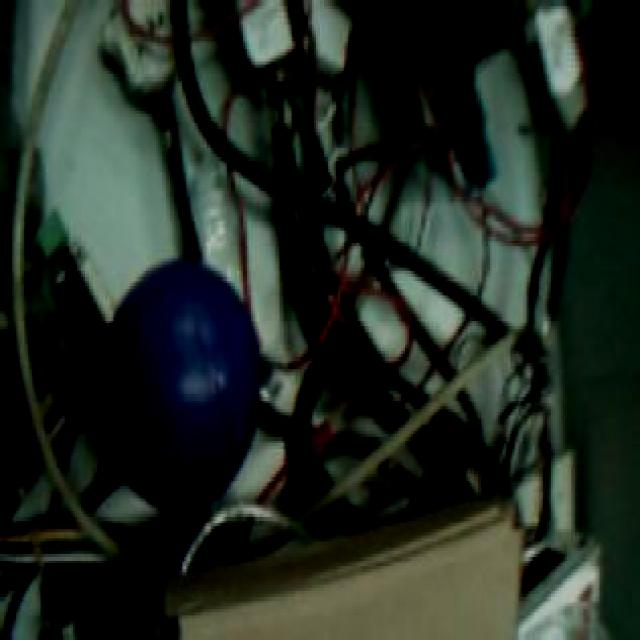BallPurple: (106, 259, 262, 509)
